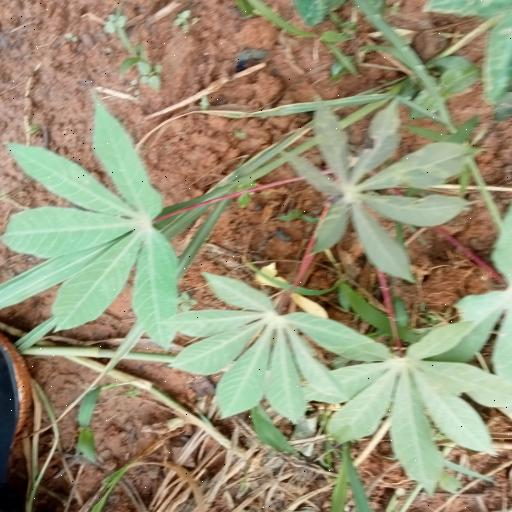Cassava_Mosaic: (8, 108, 181, 350), (326, 301, 510, 490), (298, 108, 472, 274), (181, 288, 353, 430)
